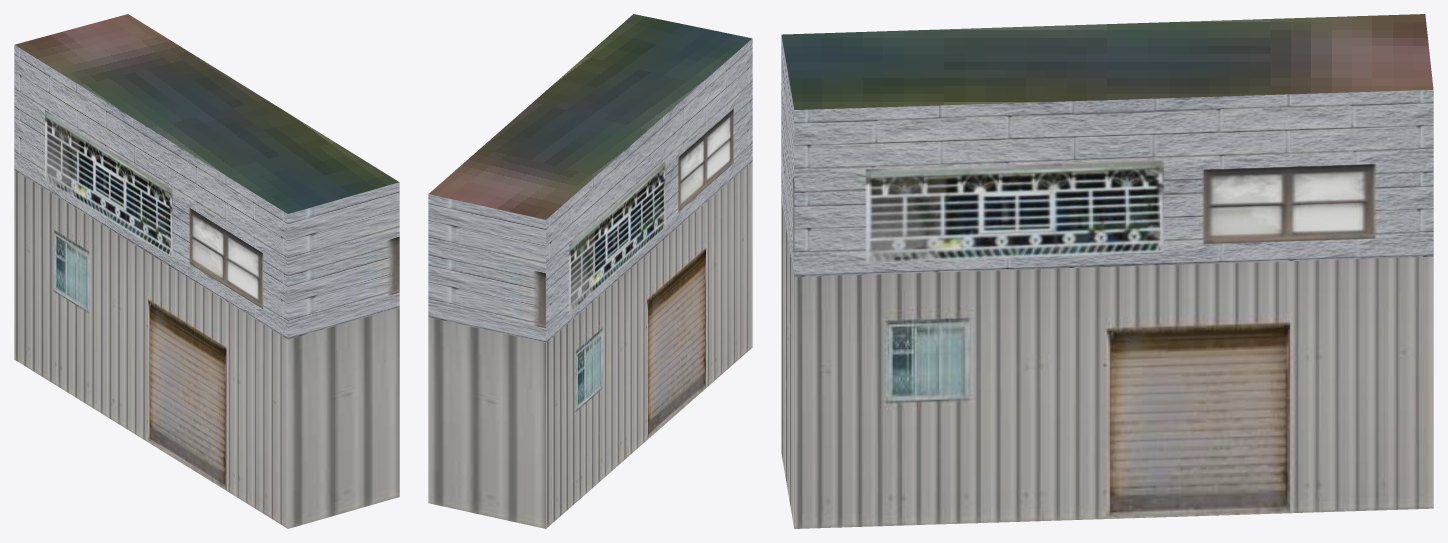
3 renders of one model, left to right at view 1: azimuth 30°, elevation 25°; view 2: azimuth 150°, elevation 25°; view 3: azimuth 270°, elevation 25°, orthographic. The views are drawn at different scales.
Parts seen in each view (by area): view 1: SketchUp (×3); view 2: SketchUp (×3); view 3: SketchUp (×3).
Part boxes in pixels (x1,y1,x2,y2): SketchUp (×3): [14, 14, 399, 528]; SketchUp (×3): [428, 14, 752, 528]; SketchUp (×3): [781, 14, 1433, 528].
Size of the model in its own units: 106 by 305 by 216.
Materials: 3 (3 with a texture image).
